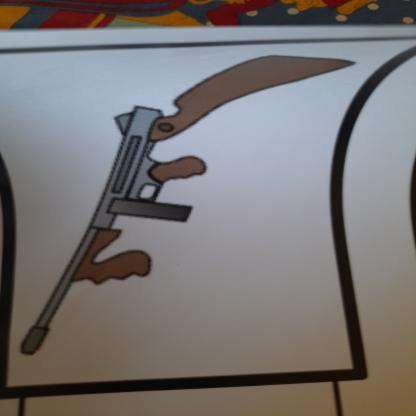Bootlegger: (10, 49, 362, 365)
